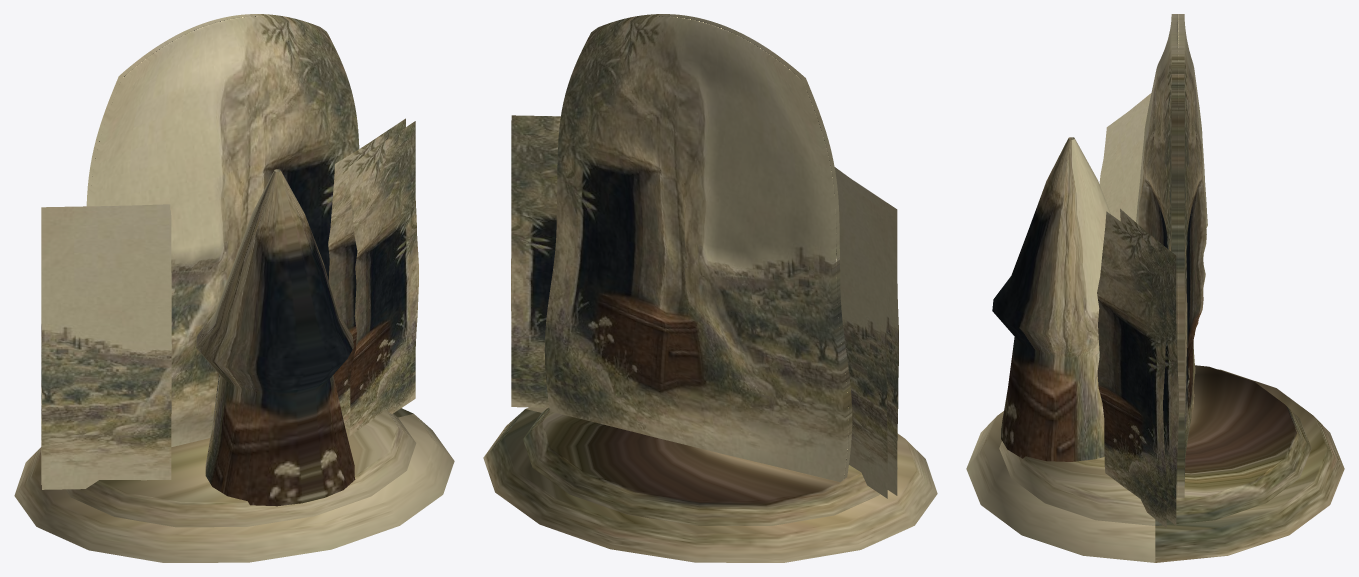
The model's file is joseph-coffin-chest.glb.
The picture shows the model from 3 angles, left to right: view 1: azimuth 30°, elevation 25°; view 2: azimuth 150°, elevation 25°; view 3: azimuth 270°, elevation 25°; orthographic projection. The views are drawn at different scales.
Parts seen in each view (by area): view 1: PaintingSculptureMonument; view 2: PaintingSculptureMonument; view 3: PaintingSculptureMonument.
Boxes of the visible parts, <box> form: PaintingSculptureMonument: <box>14,14,454,562</box>; PaintingSculptureMonument: <box>483,14,937,562</box>; PaintingSculptureMonument: <box>966,14,1344,562</box>.
Size of the model in its own units: 2.76 by 2.99 by 2.35.
Materials: 1 (1 with a texture image).
